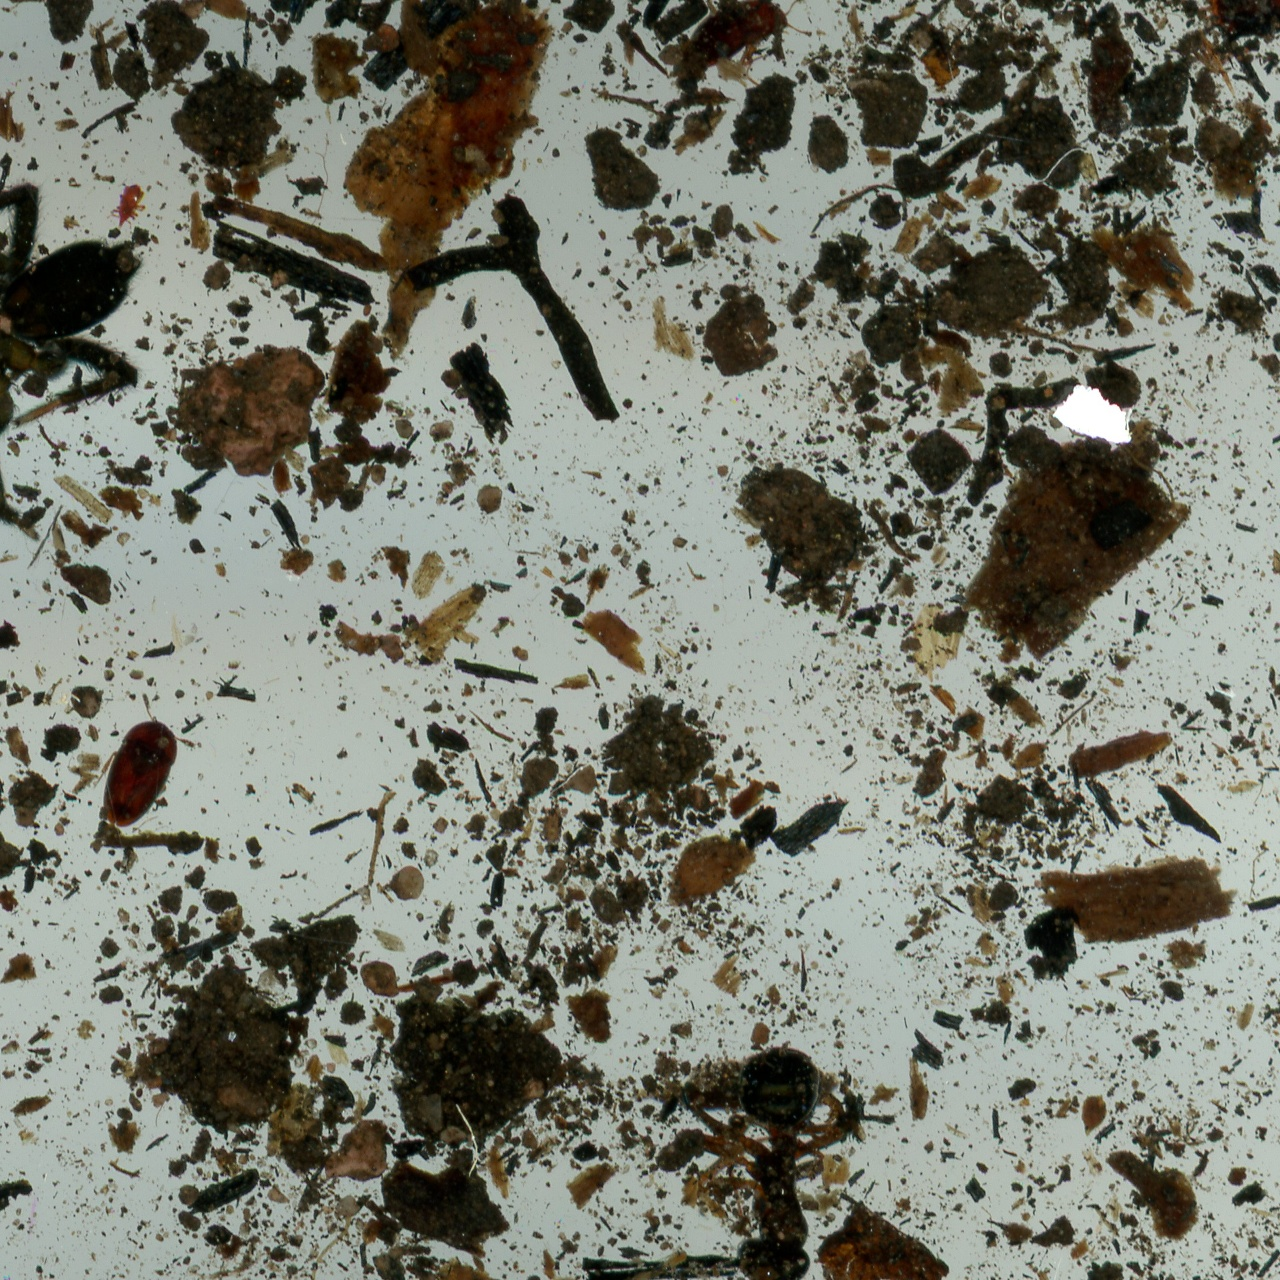arthropod: (0, 136, 230, 597), (1114, 0, 1280, 113), (659, 0, 819, 96), (104, 177, 154, 236)
